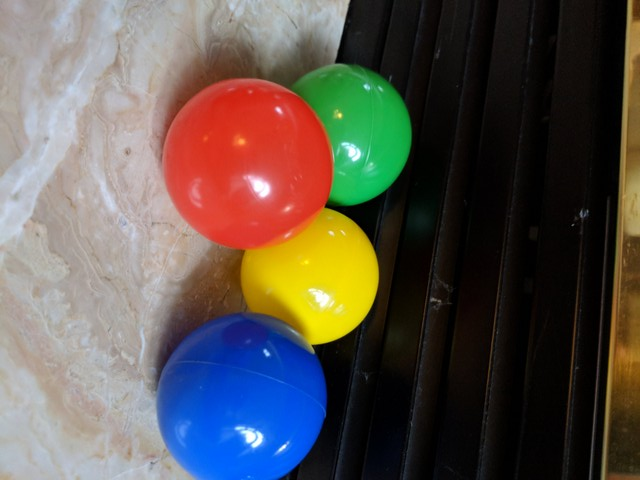Ball: (275, 60, 414, 206)
